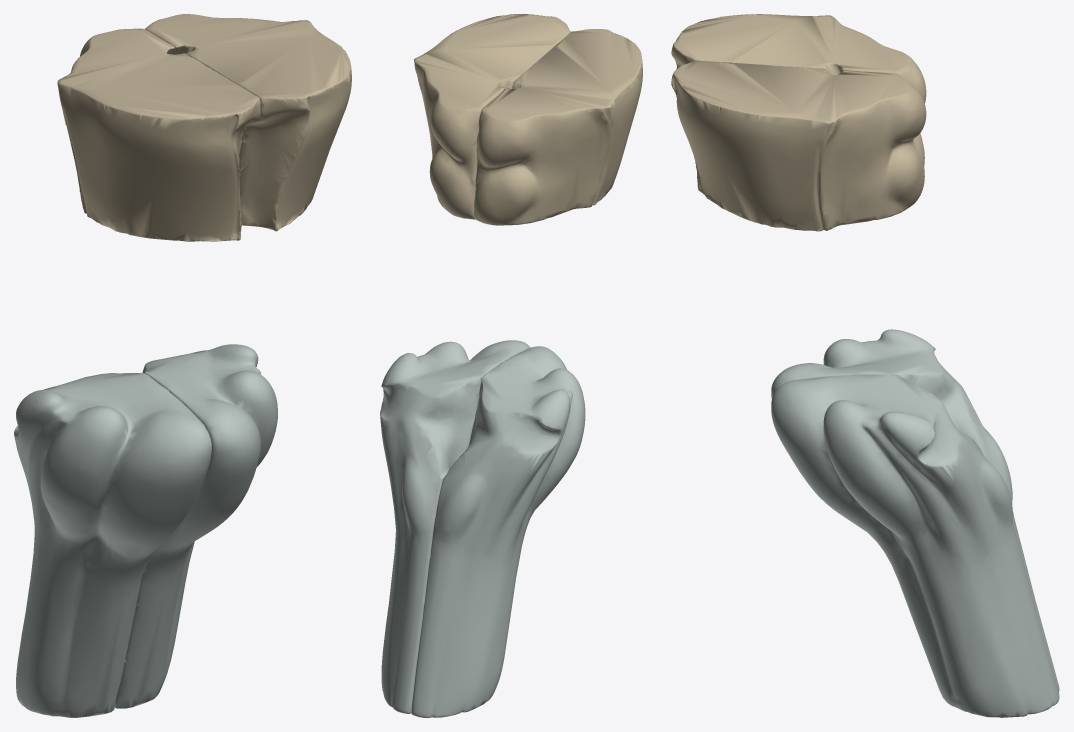
File: brainstem-core-balanced.glb
The picture shows the model from 3 angles, left to right: view 1: azimuth 30°, elevation 25°; view 2: azimuth 150°, elevation 25°; view 3: azimuth 270°, elevation 25°; orthographic projection. The views are drawn at different scales.
Parts seen in each view (by area): view 1: organ.medulla-oblongata, organ.midbrain; view 2: organ.medulla-oblongata, organ.midbrain; view 3: organ.medulla-oblongata, organ.midbrain.
Boxes of the visible parts, bbox=[...] form: organ.medulla-oblongata: bbox=[14, 344, 277, 717]; organ.midbrain: bbox=[57, 14, 351, 241]; organ.medulla-oblongata: bbox=[380, 340, 585, 717]; organ.midbrain: bbox=[414, 14, 642, 225]; organ.medulla-oblongata: bbox=[771, 329, 1059, 717]; organ.midbrain: bbox=[671, 14, 926, 231].
Bounding box in the file's own units: 0.0285 × 0.0787 × 0.0434.
